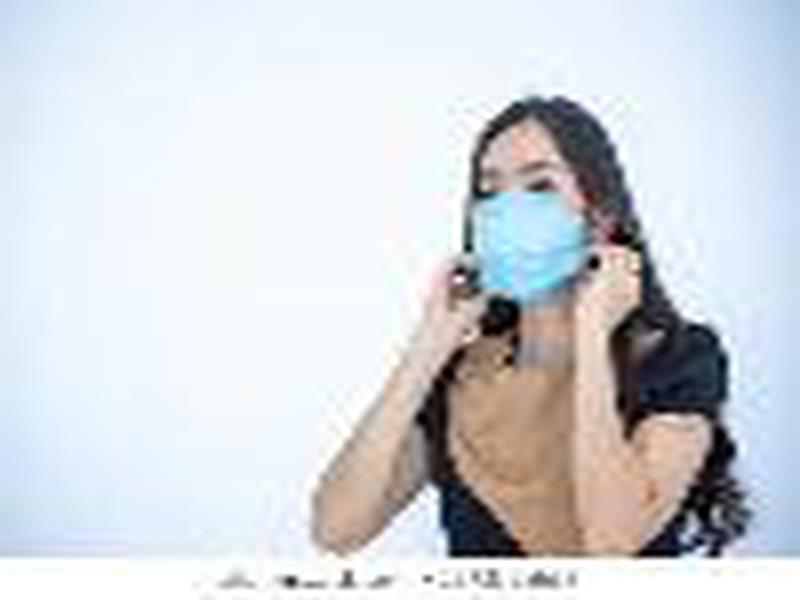with_mask: (458, 94, 633, 303)
